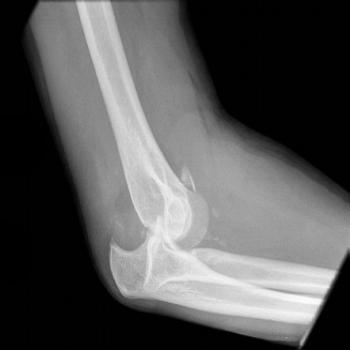Fracture: (98, 205, 160, 272)
